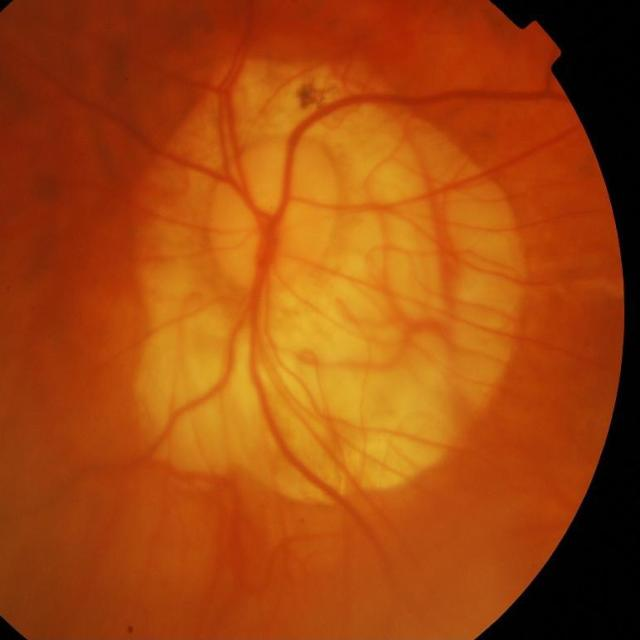OC: (264, 192, 306, 232)
OD: (210, 142, 336, 286)
